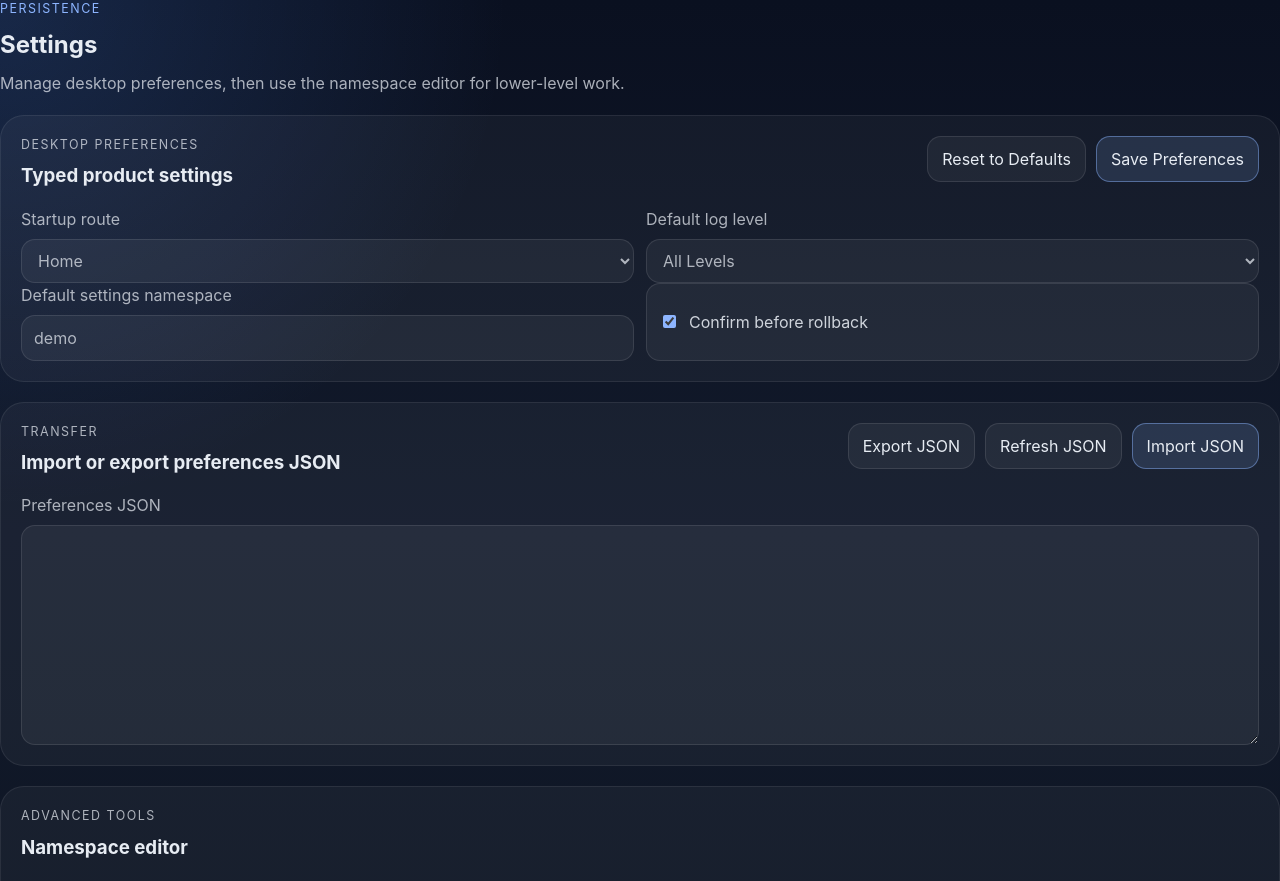
Test case: SettingsPanel › refreshes exported desktop settings json
Click the button "Refresh JSON": (1053, 446) [985,422,1122,468]
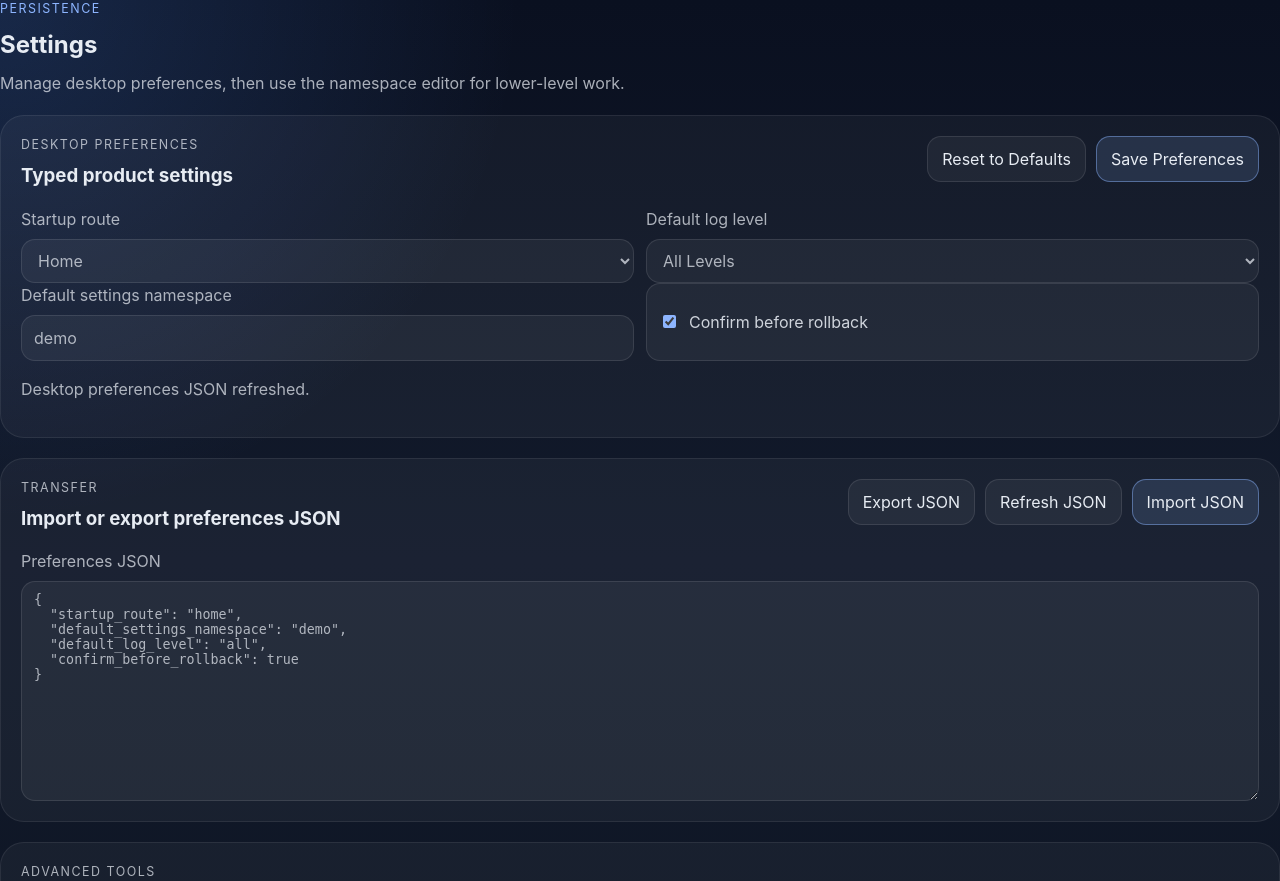
expect the text "Desktop preferences JSON refreshed." is shown: met, box [21,378,310,398]
